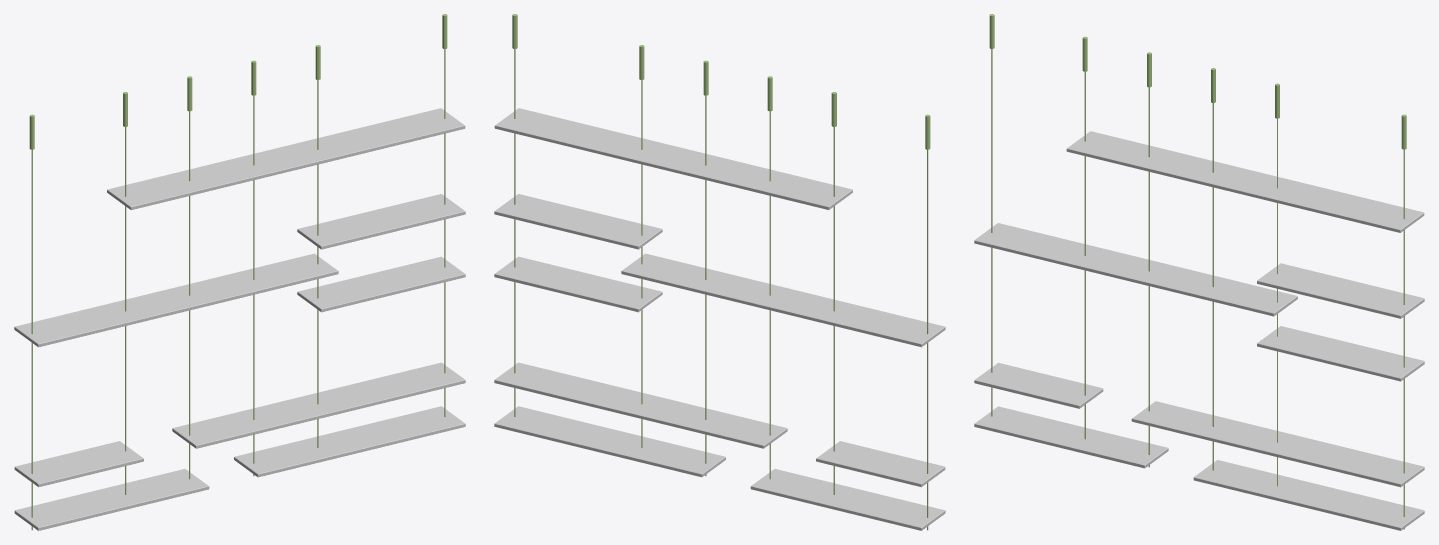
Rendered from Cabinet.fbx.
3 renders of one model, left to right at view 1: azimuth 30°, elevation 25°; view 2: azimuth 150°, elevation 25°; view 3: azimuth 330°, elevation 25°, orthographic.
Parts seen in each view (by area): view 1: Cabinet02; view 2: Cabinet02; view 3: Cabinet02.
Part boxes in pixels (<box>): Cabinet02: <box>14,14,465,530</box>; Cabinet02: <box>494,14,945,530</box>; Cabinet02: <box>974,14,1424,530</box>.
Size of the model in its own units: 398 by 368 by 38.72.
